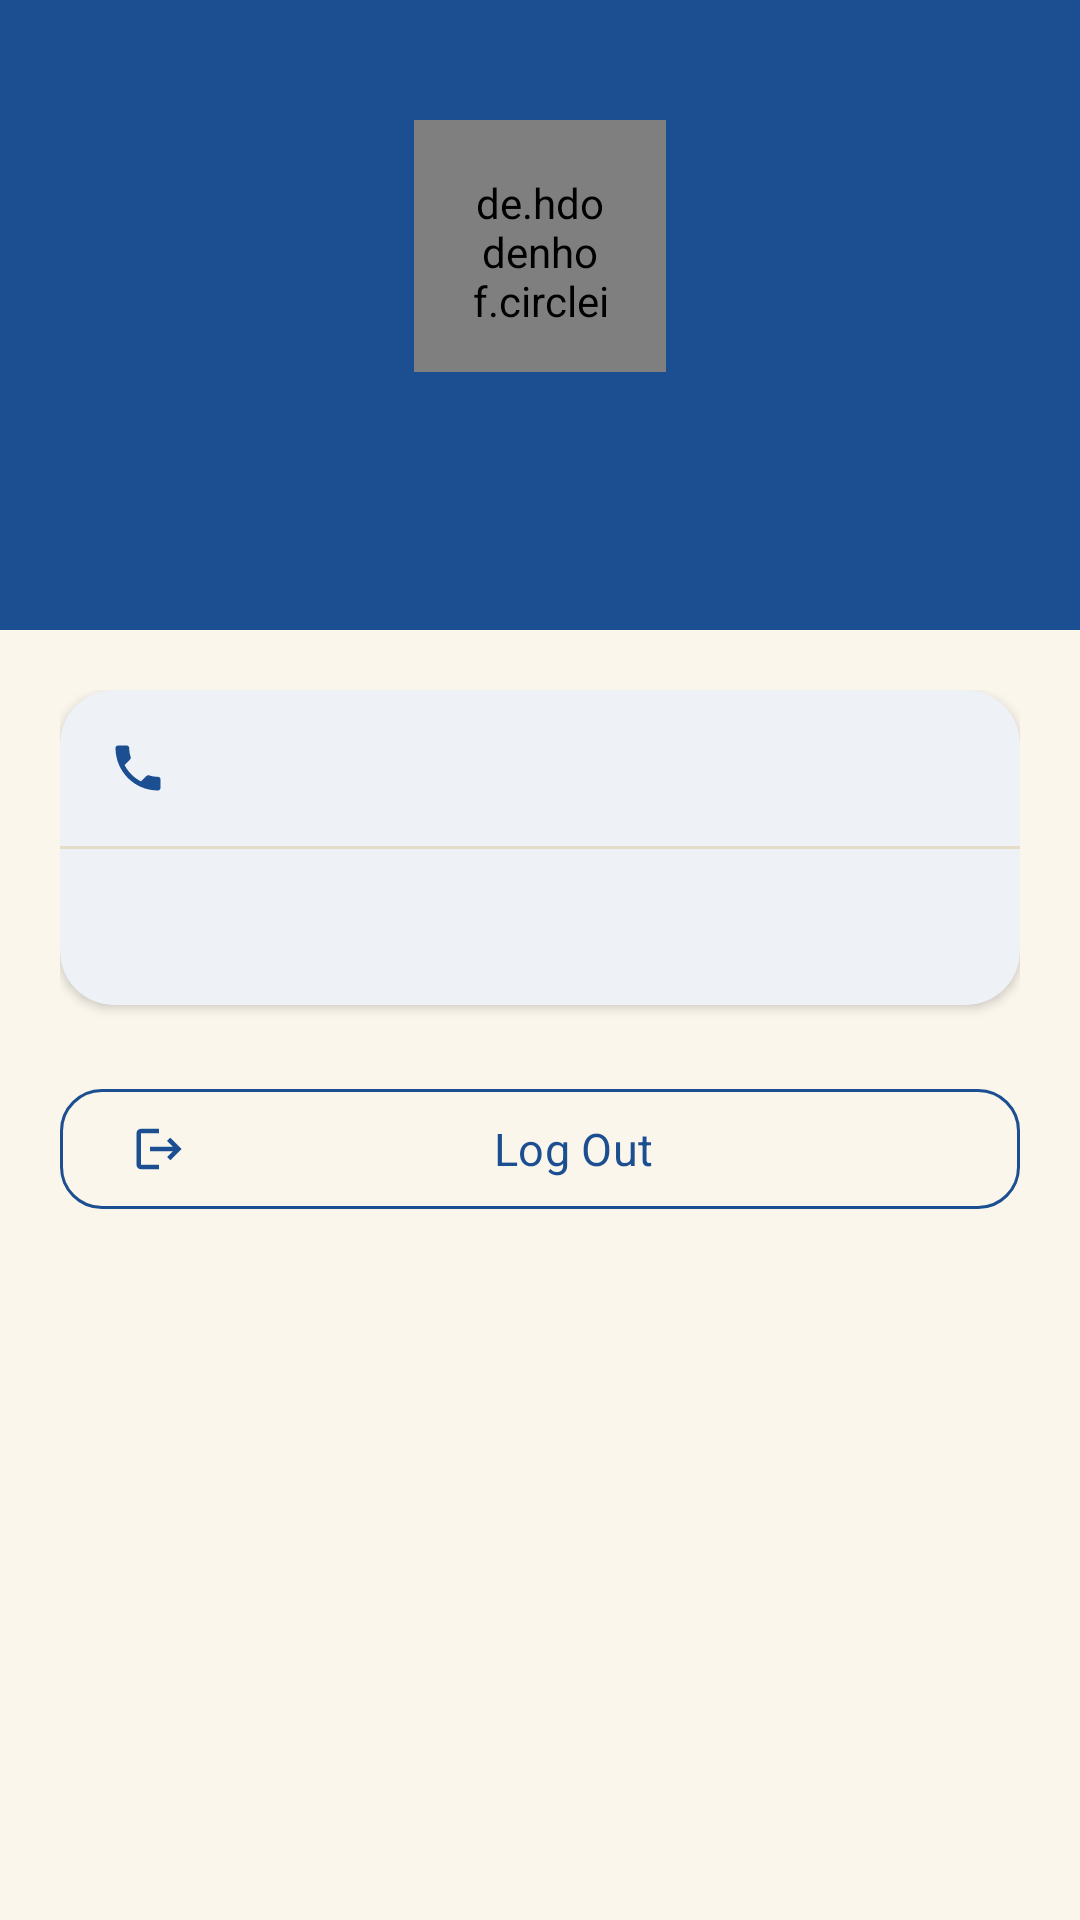

Screen size 1080 x 1920. Icon name, then its center in pixels as (x=x, y=y):
phone: (x=138, y=768)
